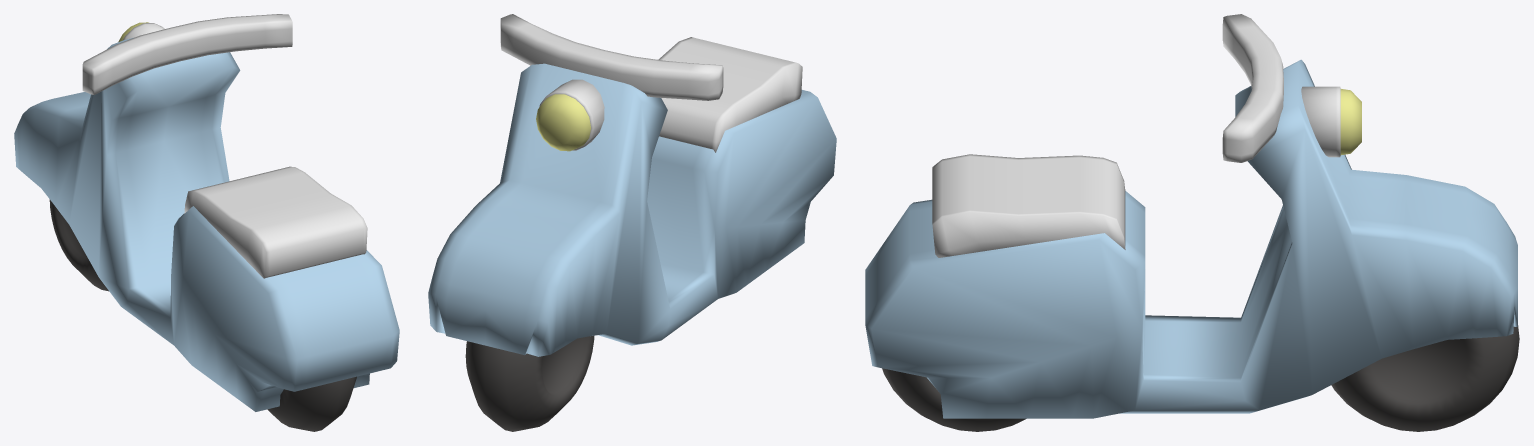
Rendered from Scooter.fbx.
The picture shows the model from 3 angles, left to right: view 1: azimuth 30°, elevation 25°; view 2: azimuth 150°, elevation 25°; view 3: azimuth 270°, elevation 25°; orthographic projection. The views are drawn at different scales.
Parts seen in each view (by area): view 1: Scooter Frame, Seat, Handle, Wheel Back, Wheel Front; view 2: Scooter Frame, Seat, Wheel Front, Handle, Lamp, Lamp Frame; view 3: Scooter Frame, Seat, Wheel Front, Handle, Wheel Back, Lamp Frame, Lamp.
Boxes of the visible parts, x1,y1,x2,y2 form: Scooter Frame: [14, 37, 399, 411]; Seat: [184, 166, 367, 278]; Handle: [82, 14, 292, 94]; Wheel Back: [267, 376, 356, 431]; Wheel Front: [49, 199, 108, 291]; Scooter Frame: [428, 63, 836, 356]; Seat: [658, 37, 802, 152]; Wheel Front: [465, 335, 594, 431]; Handle: [500, 14, 723, 100]; Lamp: [536, 94, 590, 151]; Lamp Frame: [539, 79, 604, 150]; Scooter Frame: [865, 59, 1517, 418]; Seat: [932, 154, 1125, 257]; Wheel Front: [1331, 325, 1519, 431]; Handle: [1222, 14, 1283, 162]; Wheel Back: [882, 368, 1026, 431]; Lamp Frame: [1301, 86, 1340, 157]; Lamp: [1340, 89, 1361, 155].
Bounding box in the file's own units: 182 × 424 × 256.
